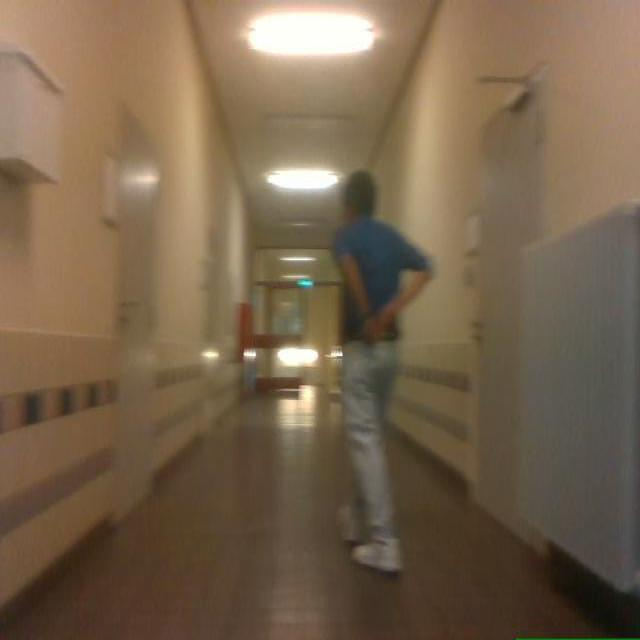humans: (334, 171, 433, 572)
